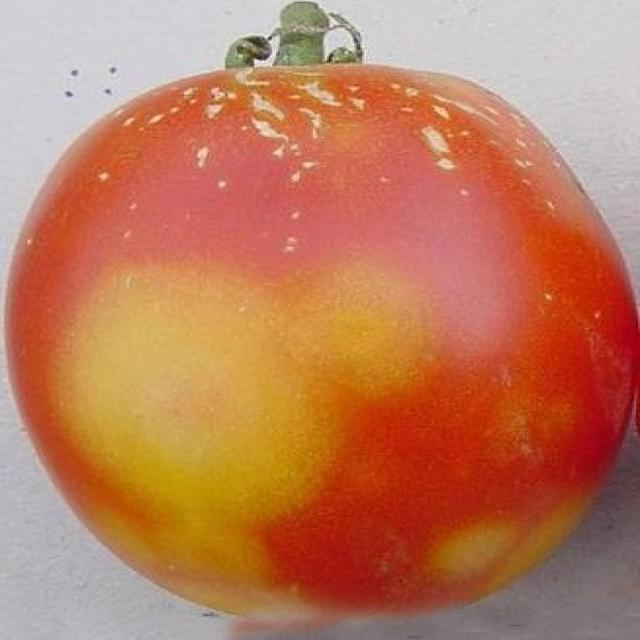Spotted wilt Virus Fruit: (29, 35, 44, 181)
